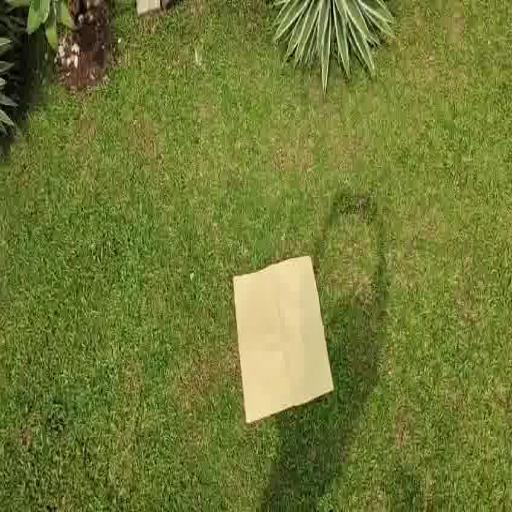landing_path: (230, 252, 336, 433)
